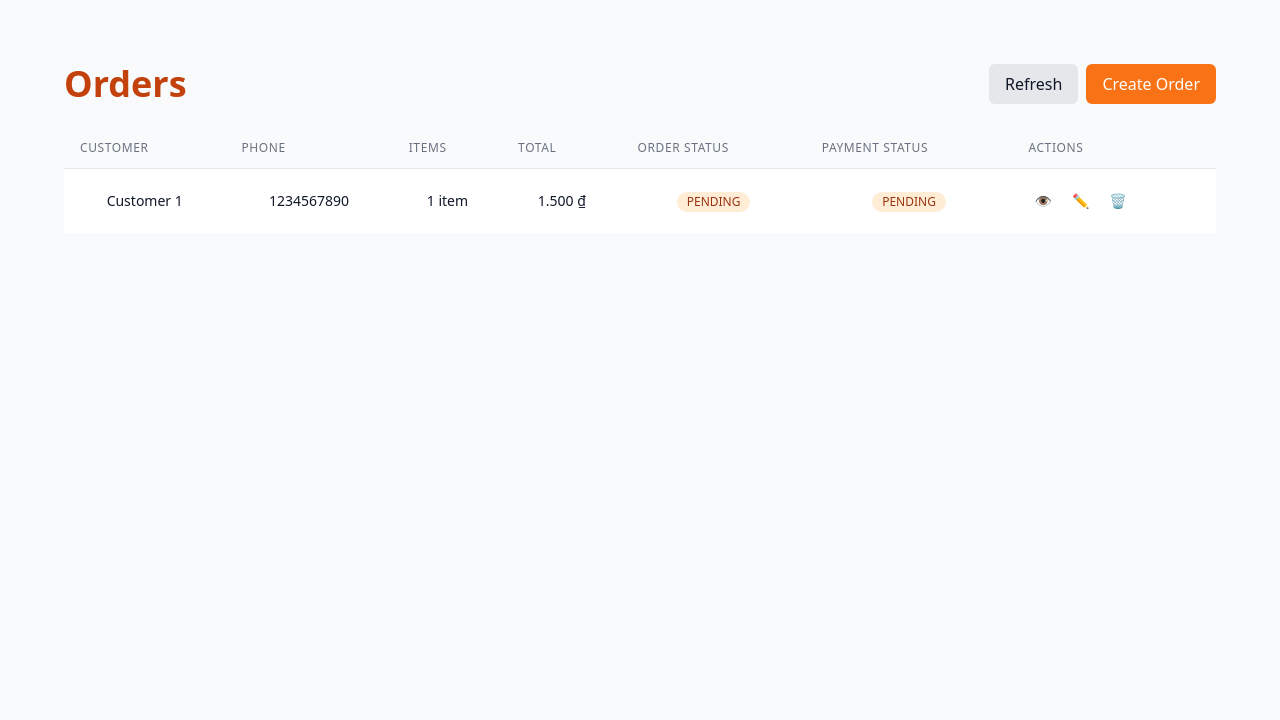
Scenario: OrdersPage › should show Cancel Order button when Edit modal is opened
This screenshot has width=1280, height=720.
Click the button named "edit order ORD-001" at (1081, 201), box [1066,185,1095,217]
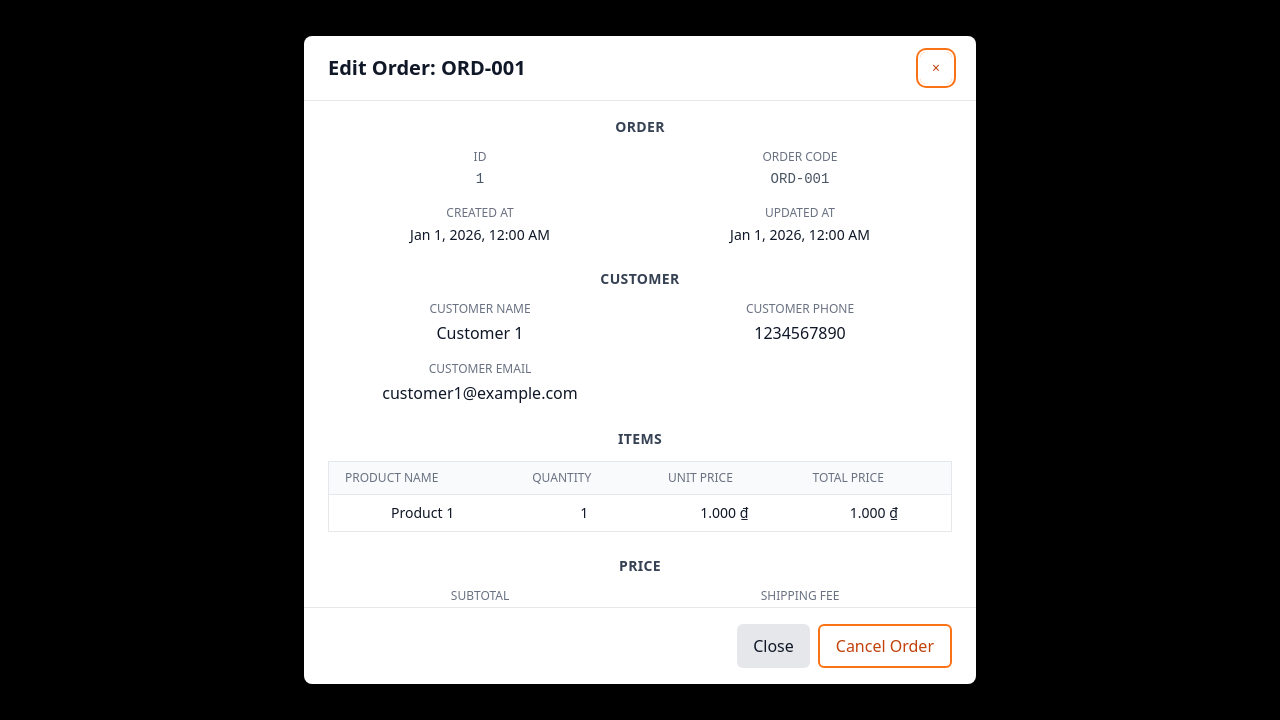
Check: the button "Cancel Order" is shown, box [818,624,952,668]
